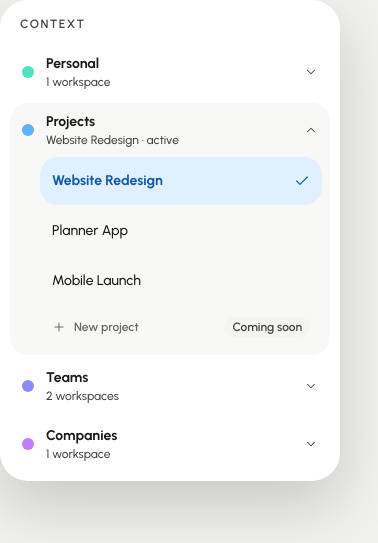
Test: ContextSwitcherPanel › shows a disabled Coming soon add row, and a note for Personal
Click the button "New project Coming soon".
click(106, 327)  # box [40,307,322,347]
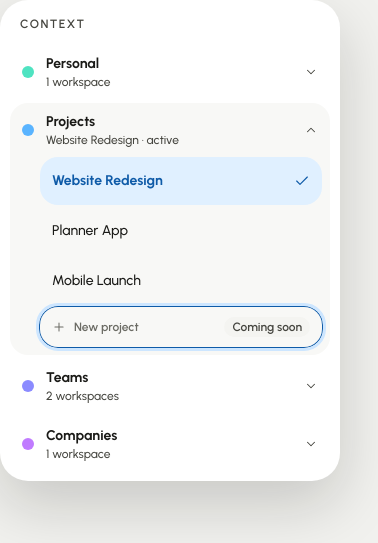
Click the button "Personal 1 workspace".
click(73, 63)  # box [10,45,330,99]
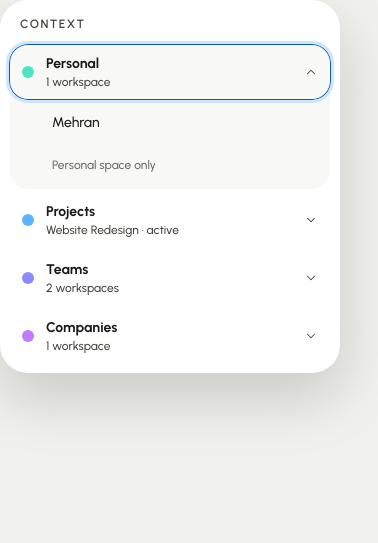
Result: the text "Personal space only" is shown at [52,158,156,172]
